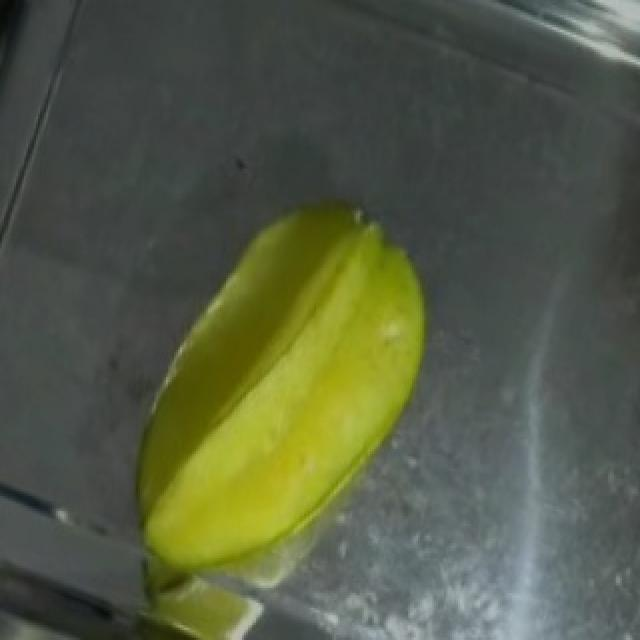fruit: (108, 171, 496, 581)
